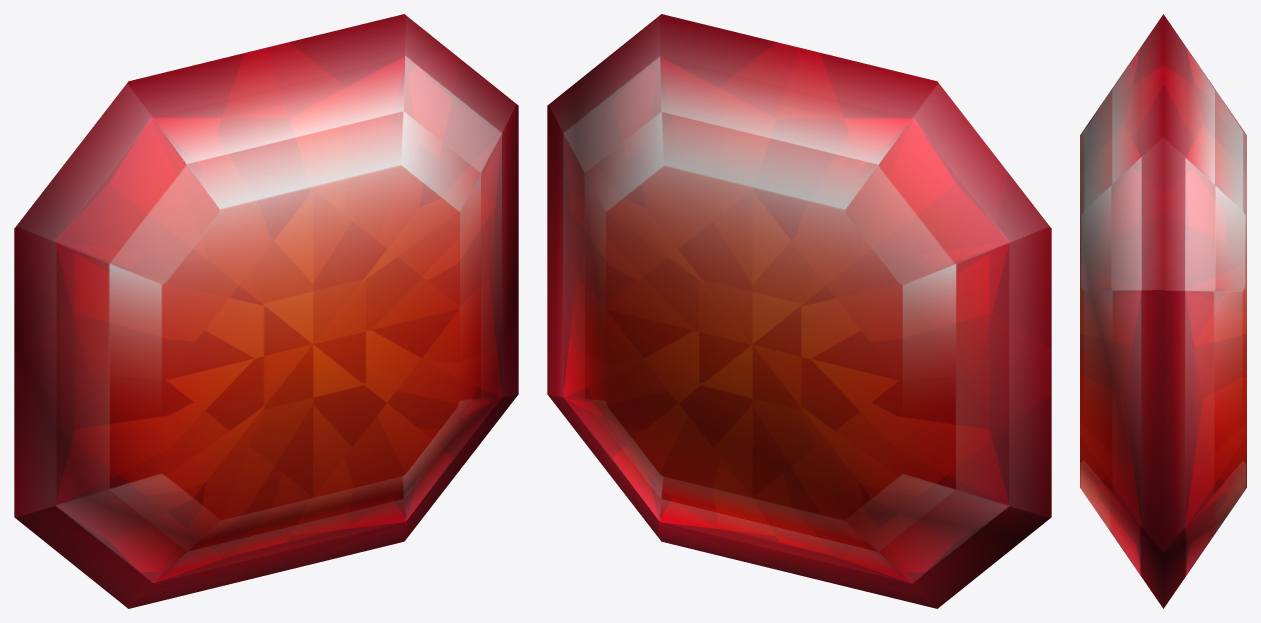
The model's file is Gem-Radiant.fbx.
3 views of the same model, side by side, from view 1: azimuth 30°, elevation 25°; view 2: azimuth 150°, elevation 25°; view 3: azimuth 270°, elevation 25° (orthographic). The views are drawn at different scales.
Visible parts, largest first — view 1: Gem-Radiant; view 2: Gem-Radiant; view 3: Gem-Radiant.
Part boxes in pixels (bbox=[...]): Gem-Radiant: bbox=[14, 14, 518, 608]; Gem-Radiant: bbox=[547, 14, 1051, 608]; Gem-Radiant: bbox=[1080, 14, 1246, 608].
Bounding box in the file's own units: 2.04 × 2.04 × 0.6498.
